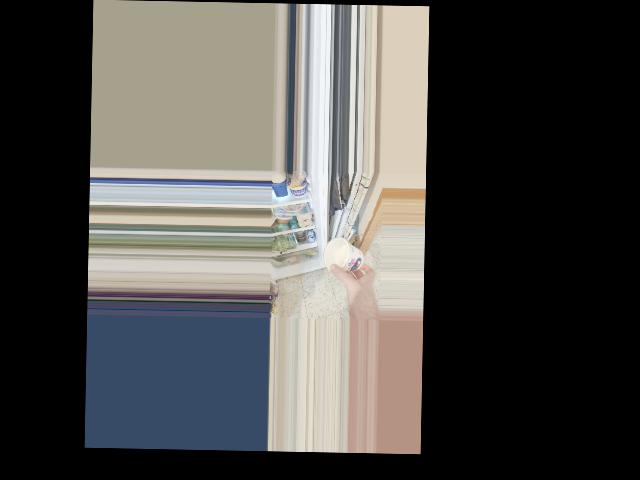cotage: (322, 238, 362, 277)
